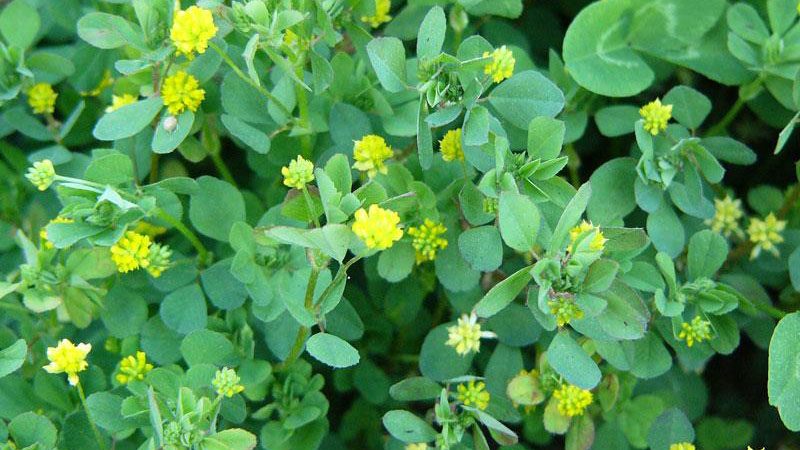clover: (2, 11, 788, 439)
